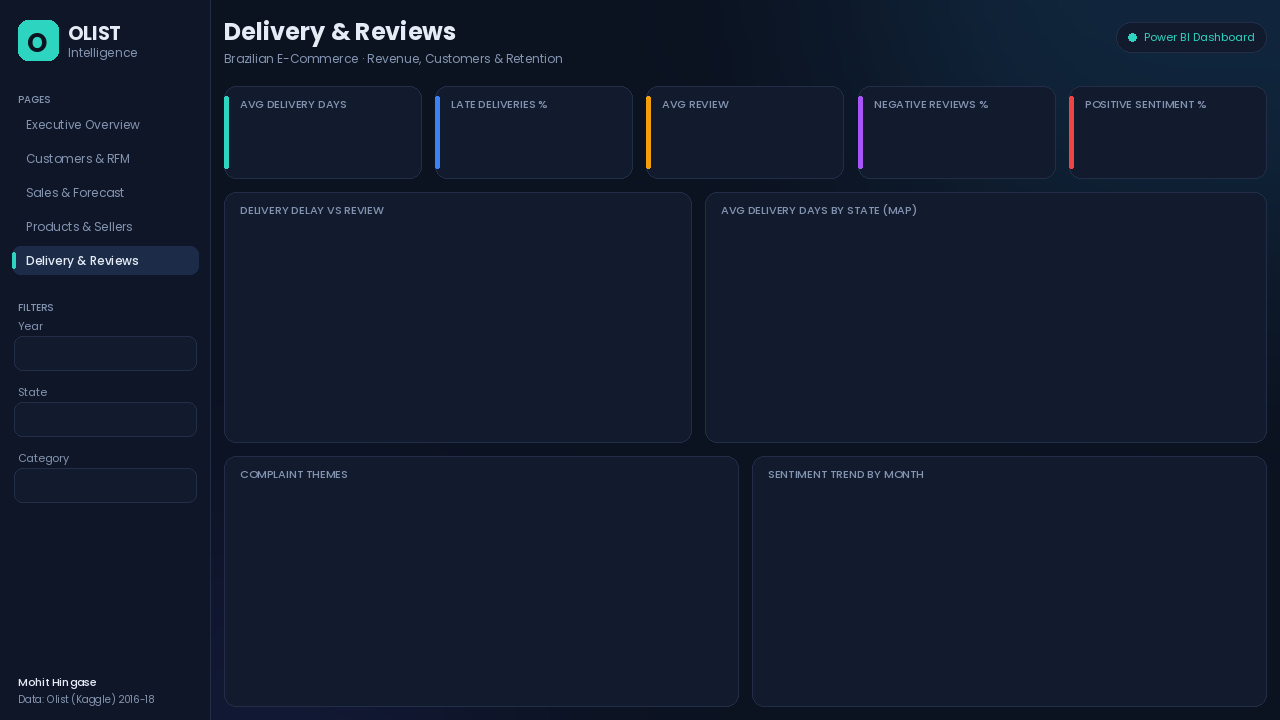

The dashboard page shown, as its layout file describes it:
{"tool":"powerbi","page":{"name":"Delivery & Reviews","canvas":[1280,720],"ordinal":4},"visuals":[{"type":"card","fields":{"Values":["fact_orders.Avg Delivery Days"]},"box":[234,112,179,62],"z":1000},{"type":"card","fields":{"Values":["fact_orders.Late Delivery %"]},"box":[445,112,179,62],"z":1000},{"type":"card","fields":{"Values":["fact_orders.Avg Review"]},"box":[656,112,179,62],"z":1000},{"type":"card","fields":{"Values":["fact_orders.Negative Review %"]},"box":[868,112,179,62],"z":1000},{"type":"card","fields":{"Values":["review_sentiment.Positive Sentiment %"]},"box":[1079,112,179,62],"z":1000},{"type":"columnChart","fields":{"Category":["fact_orders.Delivery Bucket"],"Y":["fact_orders.Bucket Negative %"]},"box":[230,222,455,214],"z":1000},{"type":"barChart","fields":{"Category":["agg_state.state"],"Y":["agg_state.State Delivery Days"]},"box":[711,222,549,214],"z":1000},{"type":"barChart","fields":{"Category":["agg_complaint_themes.theme"],"Y":["agg_complaint_themes.Total Complaints"]},"box":[230,486,502,214],"z":1000},{"type":"lineChart","fields":{"Category":["agg_sentiment_month.review_month"],"Y":["agg_sentiment_month.Positive %","agg_sentiment_month.Neutral %","agg_sentiment_month.Negative %"]},"box":[758,486,502,214],"z":1000},{"type":"slicer","fields":{"Values":["dim_date.year"]},"box":[14,351,182,40],"z":3000},{"type":"slicer","fields":{"Values":["dim_customer.state"]},"box":[14,417,182,40],"z":3000},{"type":"slicer","fields":{"Values":["dim_product.category"]},"box":[14,483,182,40],"z":3000},{"type":"actionButton","box":[12,110,186,28],"z":4000},{"type":"actionButton","box":[12,144,186,28],"z":4001},{"type":"actionButton","box":[12,178,186,28],"z":4002},{"type":"actionButton","box":[12,212,186,28],"z":4003}]}

Visuals, with their boxes on the page's 1280x720 design canvas (x1, y1, x2, y2). These are canvas units, not pixel positions in the 1280x720 screenshot, which may show the page scaled, cropped or inside an application window:
card - fact_orders.Avg Delivery Days: locate(234, 112, 413, 174)
card - fact_orders.Late Delivery %: locate(445, 112, 624, 174)
card - fact_orders.Avg Review: locate(656, 112, 835, 174)
card - fact_orders.Negative Review %: locate(868, 112, 1047, 174)
card - review_sentiment.Positive Sentiment %: locate(1079, 112, 1258, 174)
columnChart - fact_orders.Delivery Bucket x fact_orders.Bucket Negative %: locate(230, 222, 685, 436)
barChart - agg_state.state x agg_state.State Delivery Days: locate(711, 222, 1260, 436)
barChart - agg_complaint_themes.theme x agg_complaint_themes.Total Complaints: locate(230, 486, 732, 700)
lineChart - agg_sentiment_month.review_month x agg_sentiment_month.Positive %: locate(758, 486, 1260, 700)
slicer - dim_date.year: locate(14, 351, 196, 391)
slicer - dim_customer.state: locate(14, 417, 196, 457)
slicer - dim_product.category: locate(14, 483, 196, 523)
actionButton: locate(12, 110, 198, 138)
actionButton: locate(12, 144, 198, 172)
actionButton: locate(12, 178, 198, 206)
actionButton: locate(12, 212, 198, 240)
